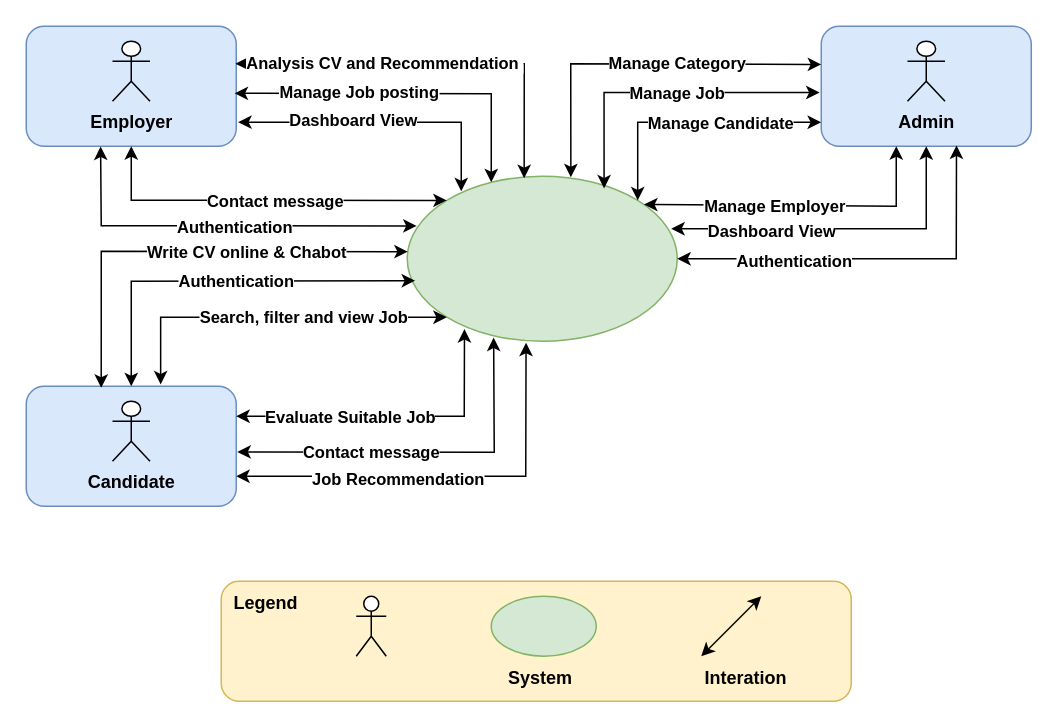
This 1058x728 diagram has some shape labels left out. Here are the shapes that lost their labels. From the top down, the centre of each, then its label:
the point at 541,258: Smart Recruitment System
the point at 370,625: Actor
